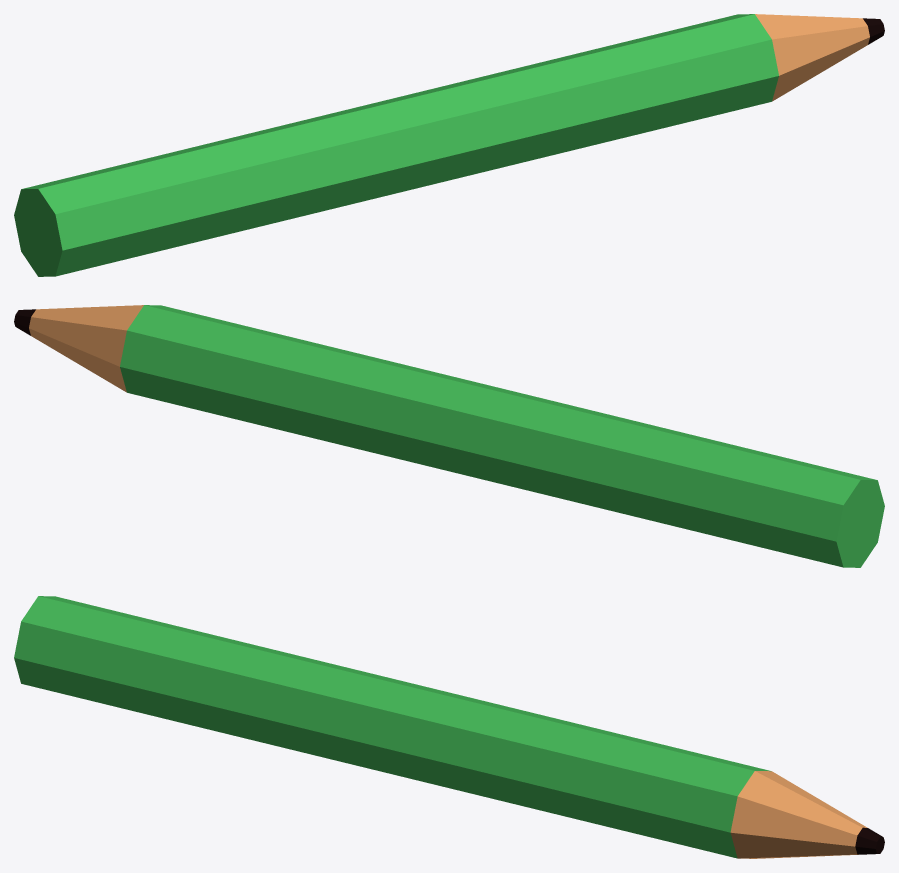
Rendered from Pencil.fbx.
3 renders of one model, top to bottom at view 1: azimuth 30°, elevation 25°; view 2: azimuth 150°, elevation 25°; view 3: azimuth 330°, elevation 25°, orthographic.
Visible parts, largest first — view 1: Pencil, Pencil.001, Pencil.002; view 2: Pencil, Pencil.001, Pencil.002; view 3: Pencil, Pencil.002, Pencil.001.
Part boxes in pixels (x1,y1,x2,y2): Pencil: (14,14,884,276); Pencil.001: (55,152,466,276); Pencil.002: (460,31,884,177); Pencil: (14,305,884,567); Pencil.001: (432,443,843,567); Pencil.002: (14,322,438,468); Pencil: (14,596,884,853); Pencil.002: (418,756,876,858); Pencil.001: (14,658,425,782).
Size of the model in its own units: 199 by 19.84 by 19.84.
